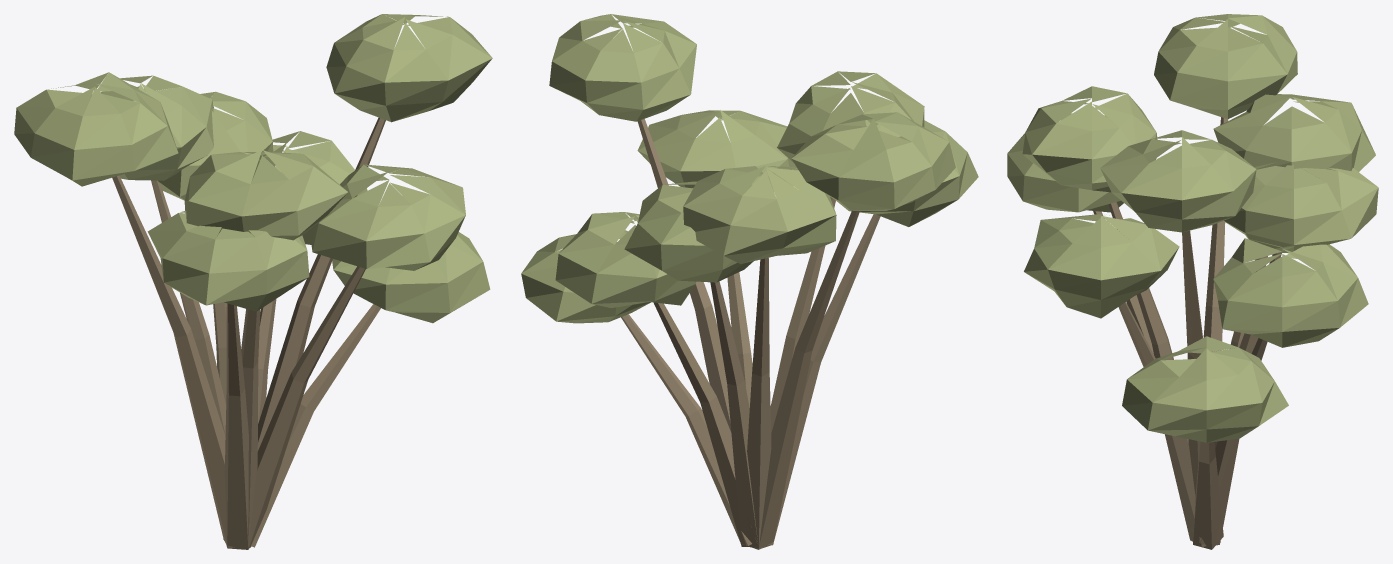
File: desert-canyons-and-oases-tamarisk-8fc7908d__20984.glb
3 renders of one model, left to right at view 1: azimuth 30°, elevation 25°; view 2: azimuth 150°, elevation 25°; view 3: azimuth 270°, elevation 25°, orthographic. The views are drawn at different scales.
Visible parts, largest first — view 1: tamarisk; view 2: tamarisk; view 3: tamarisk.
Boxes of the visible parts, x1=… form: tamarisk: x1=14, y1=14, x2=492, y2=549; tamarisk: x1=521, y1=14, x2=978, y2=549; tamarisk: x1=1007, y1=14, x2=1378, y2=549.
Size of the model in its own units: 2.69 by 3.03 by 2.13.
